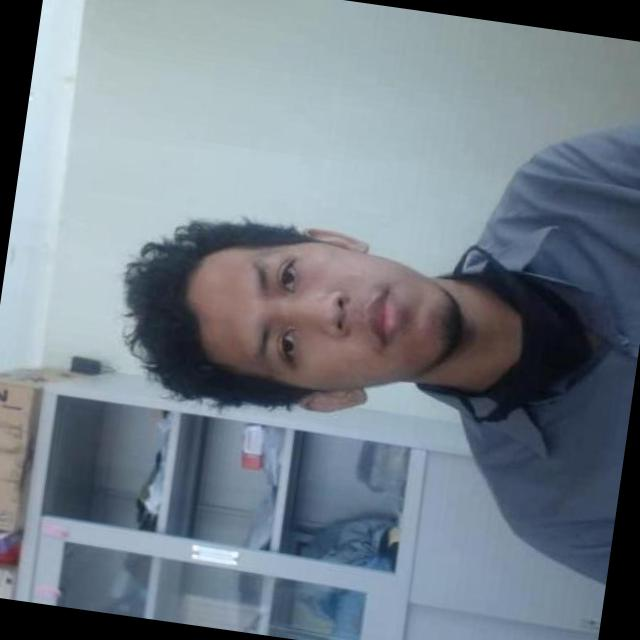bareface: (128, 206, 478, 431)
